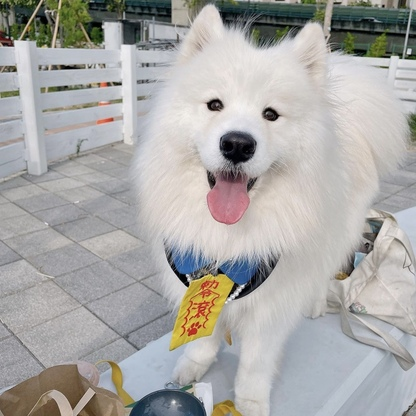samoyed: (129, 1, 416, 413)
